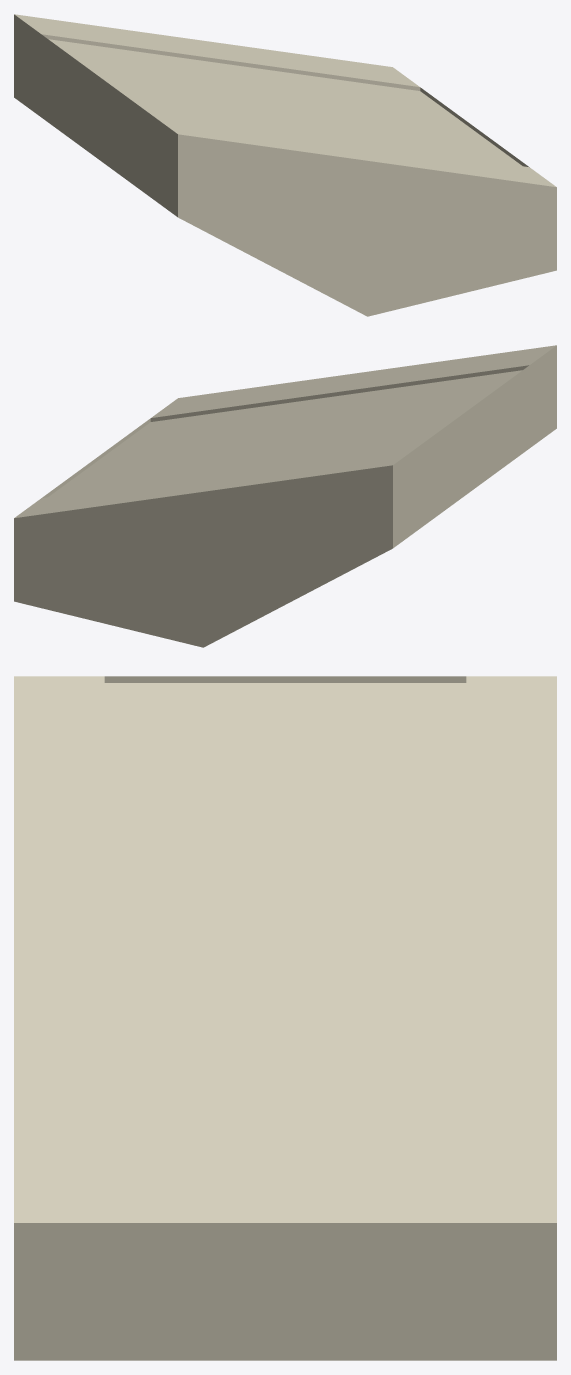
The model's file is roadtile_255.glb.
3 views of the same model, one above another, from view 1: azimuth 30°, elevation 25°; view 2: azimuth 150°, elevation 25°; view 3: azimuth 270°, elevation 25° (orthographic). The views are drawn at different scales.
Parts seen in each view (by area): view 1: Mesh1 Group1 Model; view 2: Mesh1 Group1 Model; view 3: Mesh1 Group1 Model.
Boxes of the visible parts, bbox=[...] form: Mesh1 Group1 Model: bbox=[14, 14, 556, 316]; Mesh1 Group1 Model: bbox=[14, 345, 556, 647]; Mesh1 Group1 Model: bbox=[14, 676, 556, 1360].
Size of the model in its own units: 3 by 1.73 by 2.25.
